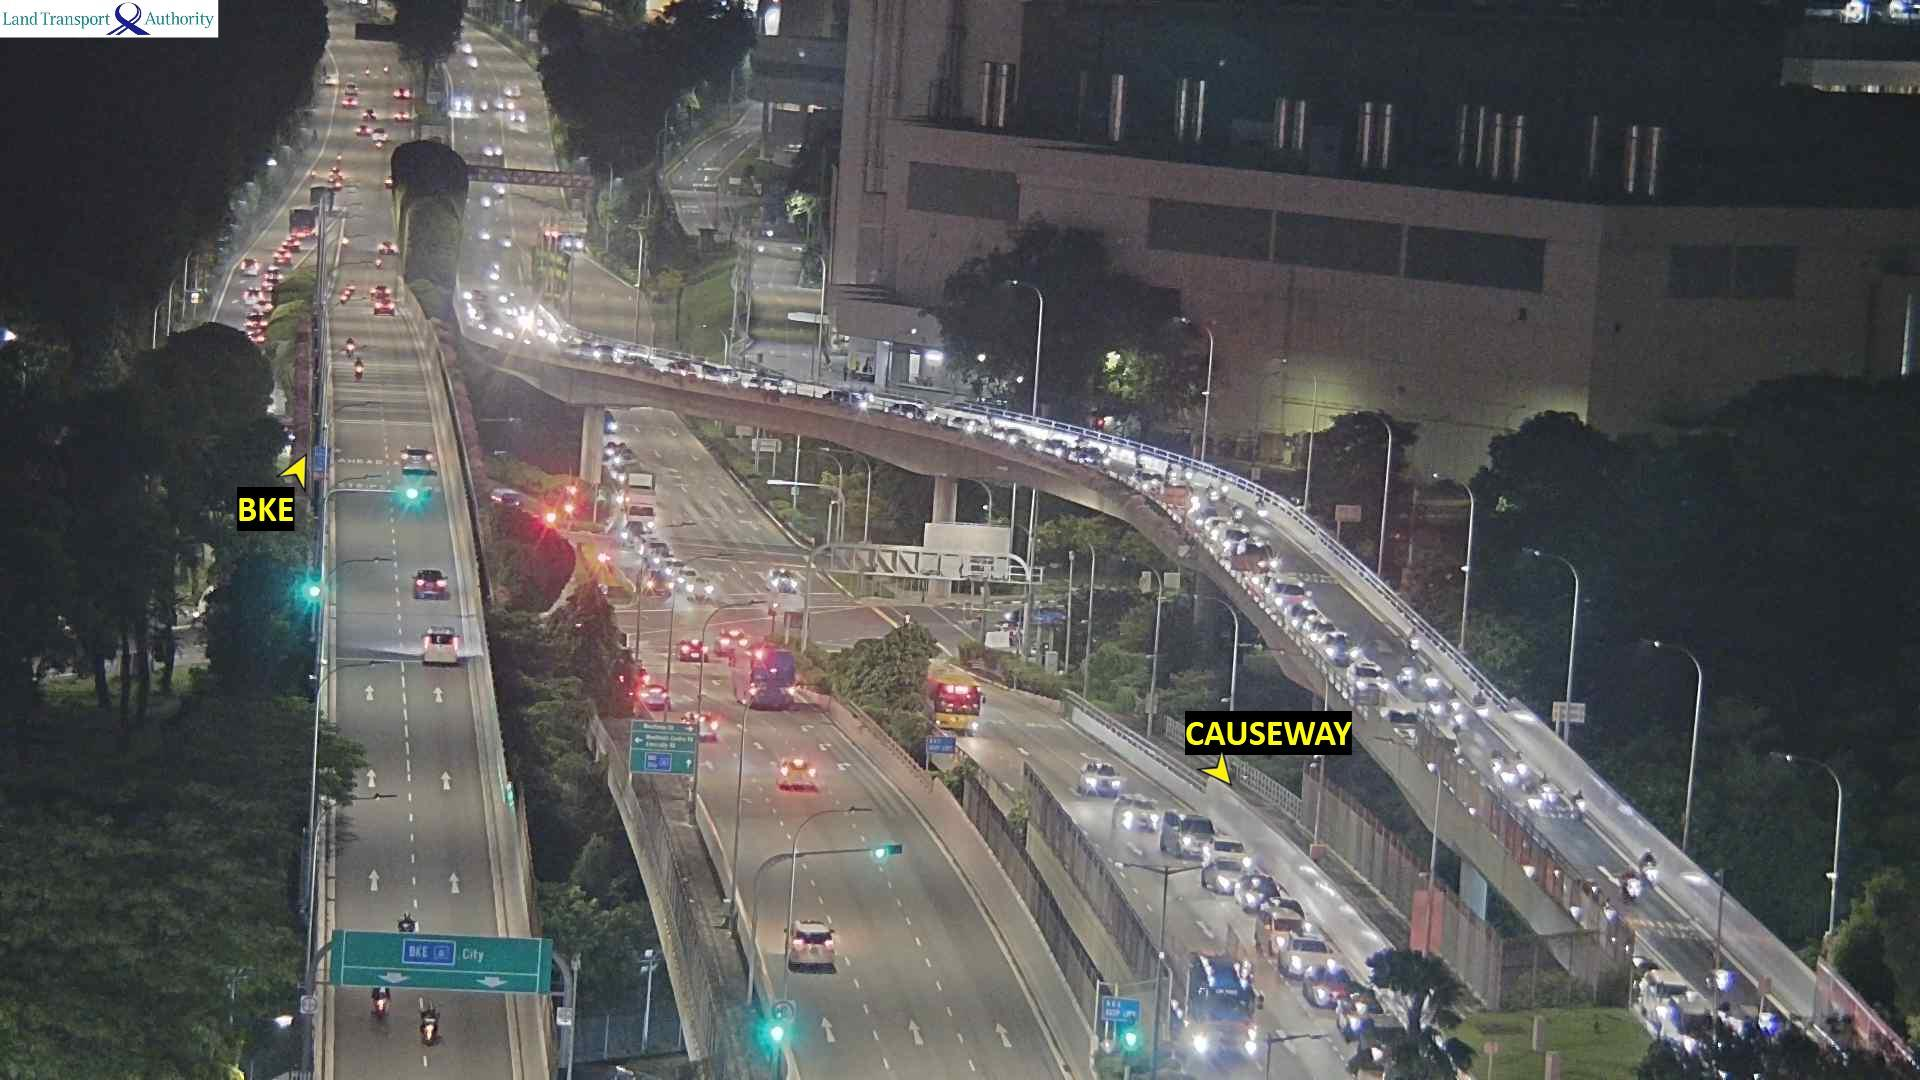vehicle-causeway-johor: (1191, 953, 1262, 1065), (1157, 815, 1219, 857), (1279, 938, 1344, 977), (929, 680, 982, 716), (1044, 437, 1102, 469), (1643, 969, 1679, 1020), (1261, 910, 1304, 951), (1076, 765, 1123, 798), (1236, 875, 1284, 907), (1205, 864, 1251, 895), (1325, 629, 1361, 663), (1203, 841, 1251, 864), (981, 425, 1036, 444), (1387, 703, 1418, 736), (1276, 582, 1308, 613), (936, 409, 975, 434), (823, 392, 876, 410), (742, 373, 795, 390), (1708, 956, 1731, 995), (875, 401, 925, 418), (597, 345, 644, 363), (1354, 666, 1384, 693), (1216, 526, 1254, 545), (697, 367, 748, 381), (1535, 777, 1556, 809), (1569, 791, 1590, 822), (1447, 691, 1464, 728), (1188, 504, 1217, 523), (1514, 750, 1529, 785), (1299, 618, 1331, 634), (1639, 852, 1656, 882), (1139, 470, 1164, 489), (1622, 872, 1637, 902), (1473, 690, 1488, 719), (1404, 629, 1420, 656), (1429, 696, 1444, 724), (1394, 664, 1410, 690), (1422, 663, 1436, 691), (1497, 753, 1510, 779), (479, 225, 490, 242), (463, 290, 479, 301), (490, 265, 500, 282), (503, 236, 513, 250), (482, 196, 489, 209), (501, 295, 509, 303), (473, 305, 478, 316)
vehicle-causeway-singapore: (789, 923, 842, 973), (777, 757, 821, 792), (415, 571, 453, 601), (403, 449, 436, 468), (367, 990, 387, 1021), (420, 1005, 437, 1039), (427, 630, 457, 647), (403, 917, 425, 937), (362, 359, 378, 378), (379, 239, 398, 255), (337, 95, 357, 109), (374, 301, 393, 314), (339, 285, 352, 304), (370, 285, 389, 298), (344, 340, 356, 356), (376, 260, 385, 270)
